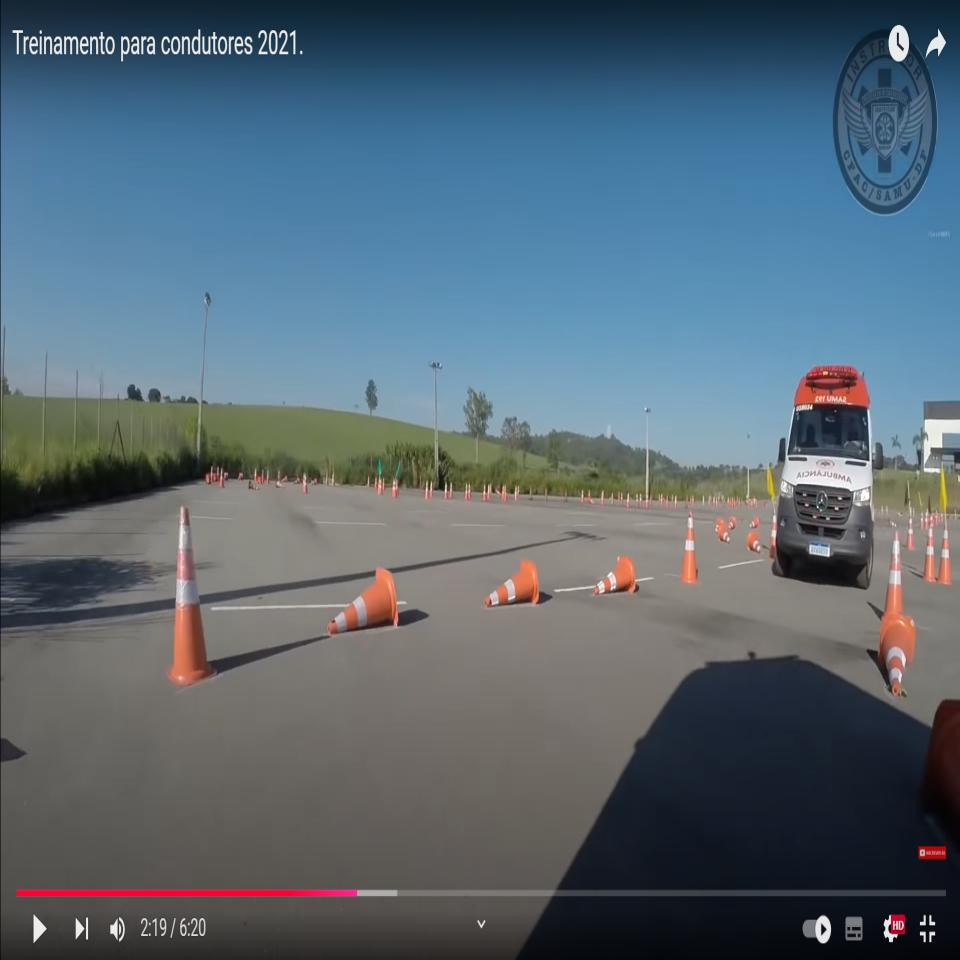bombeiro: (777, 357, 884, 592)
